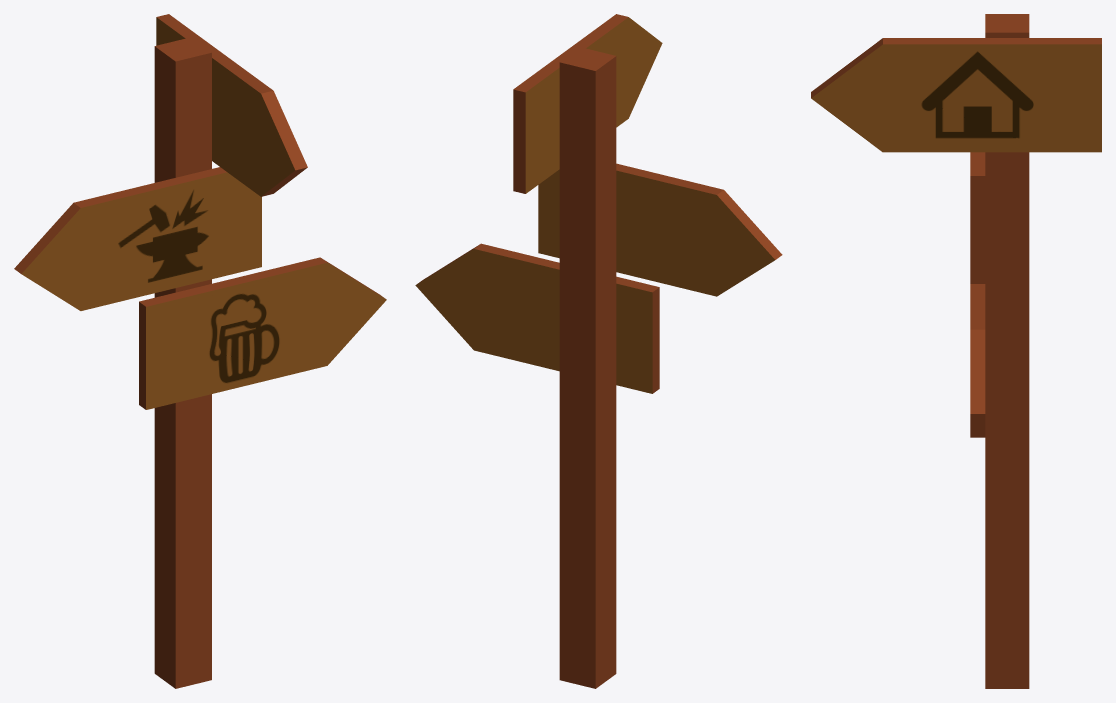
The model's file is указатель.fbx.
The picture shows the model from 3 angles, left to right: view 1: azimuth 30°, elevation 25°; view 2: azimuth 150°, elevation 25°; view 3: azimuth 270°, elevation 25°; orthographic projection. The views are drawn at different scales.
Parts seen in each view (by area): view 1: указатель; view 2: указатель; view 3: указатель.
Part boxes in pixels (x1=…): указатель: x1=14, y1=14, x2=386, y2=688; указатель: x1=415, y1=14, x2=782, y2=688; указатель: x1=811, y1=14, x2=1101, y2=688.
Bounding box in the file's own units: 0.8668 × 1.42 × 0.5708.
Materials: 2 (1 with a texture image).
